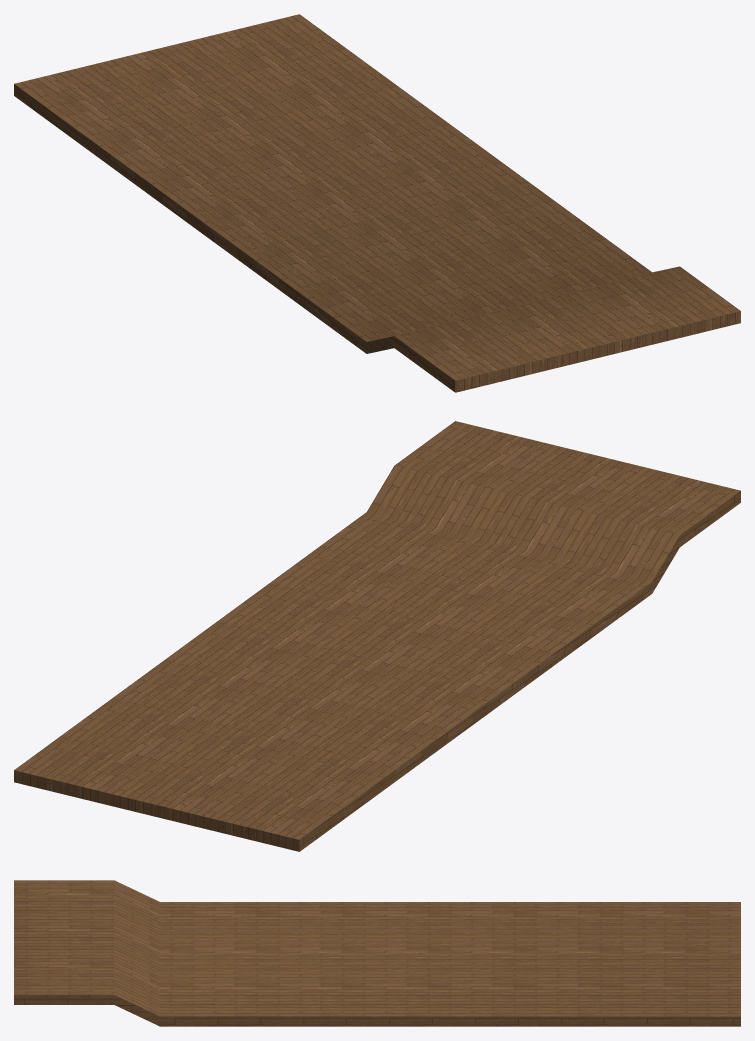
Rendered from SM_Ceiling01_Module.fbx.
3 renders of one model, top to bottom at view 1: azimuth 30°, elevation 25°; view 2: azimuth 150°, elevation 25°; view 3: azimuth 270°, elevation 25°, orthographic. The views are drawn at different scales.
Visible parts, largest first — view 1: SM_Ceiling01_Module; view 2: SM_Ceiling01_Module; view 3: SM_Ceiling01_Module.
Boxes of the visible parts, x1,y1,x2,y2 form: SM_Ceiling01_Module: (14,14,740,392); SM_Ceiling01_Module: (14,421,740,851); SM_Ceiling01_Module: (14,880,740,1026).
Bounding box in the file's own units: 1557 × 199 × 4168.
